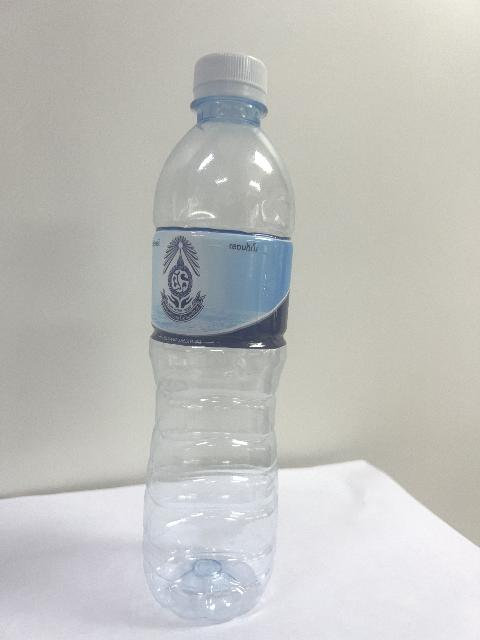bottle: (143, 54, 293, 621)
